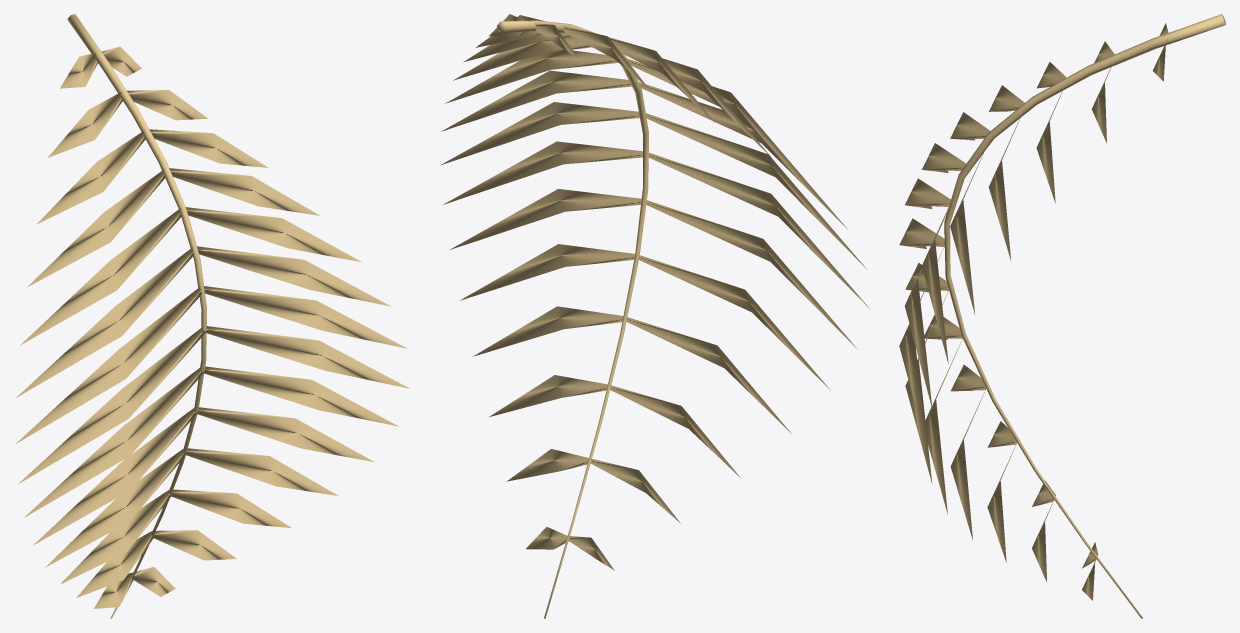
File: shed_palm_frond_tropical_island_and_palm_trees_6807.glb
3 views of the same model, side by side, from view 1: azimuth 30°, elevation 25°; view 2: azimuth 150°, elevation 25°; view 3: azimuth 270°, elevation 25° (orthographic). The views are drawn at different scales.
Parts seen in each view (by area): view 1: shed-frond; view 2: shed-frond; view 3: shed-frond.
Boxes of the visible parts, x1,y1,x2,y2 form: shed-frond: (15, 14, 410, 618); shed-frond: (440, 14, 870, 618); shed-frond: (899, 14, 1225, 618).
Size of the model in its own units: 1.46 by 2.05 by 1.
